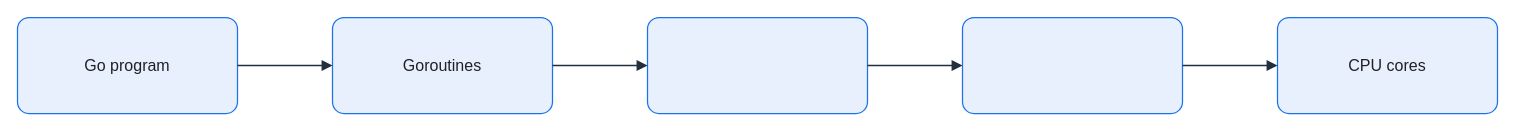
This 1516x132 diagram has some shape labels left out. Each missing label, with the box of its shape:
Go scheduler: (646, 16, 868, 114)
OS threads: (961, 16, 1183, 114)
